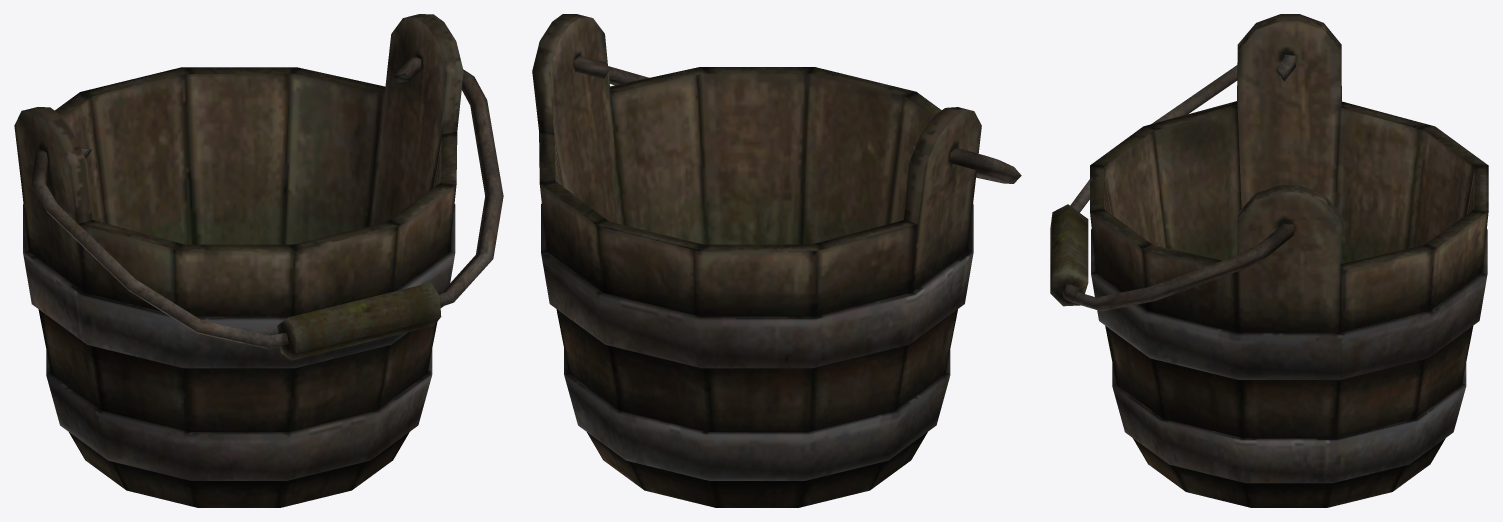
Rendered from wooden_bucket.dae.
The picture shows the model from 3 angles, left to right: view 1: azimuth 30°, elevation 25°; view 2: azimuth 150°, elevation 25°; view 3: azimuth 270°, elevation 25°; orthographic projection. The views are drawn at different scales.
Visible parts, largest first — view 1: bucket, handle; view 2: bucket, handle; view 3: bucket, handle.
Boxes of the visible parts, x1,y1,x2,y2 form: bucket: (14,14,463,507); handle: (31,56,503,360); bucket: (532,14,981,507); handle: (574,56,1021,183); bucket: (1090,14,1488,507); handle: (1050,54,1295,311).
Bounding box in the file's own units: 0.4793 × 0.4482 × 0.389.
